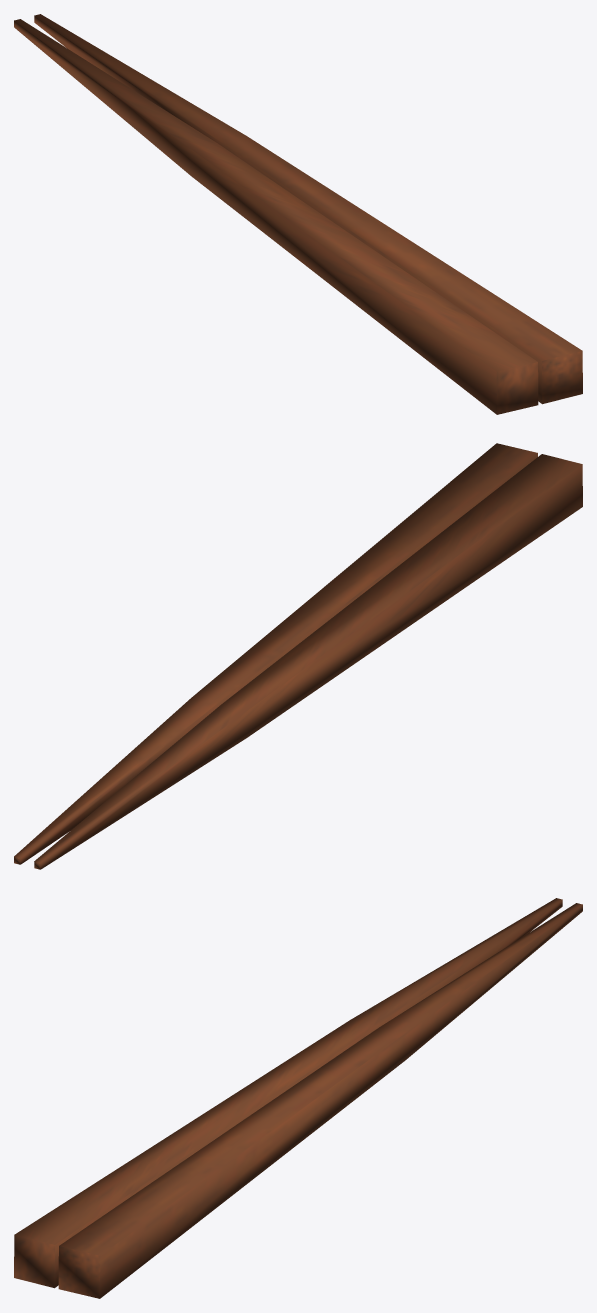
The model's file is Tableware_Chopsticks01.fbx.
The picture shows the model from 3 angles, top to bottom: view 1: azimuth 30°, elevation 25°; view 2: azimuth 150°, elevation 25°; view 3: azimuth 330°, elevation 25°; orthographic projection.
Parts seen in each view (by area): view 1: Tableware_Chopsticks01; view 2: Tableware_Chopsticks01; view 3: Tableware_Chopsticks01.
Part boxes in pixels (x1,y1,x2,y2): Tableware_Chopsticks01: [14, 14, 582, 414]; Tableware_Chopsticks01: [14, 443, 582, 869]; Tableware_Chopsticks01: [14, 898, 582, 1298].
Size of the model in its own units: 2.09 by 1 by 21.61.
